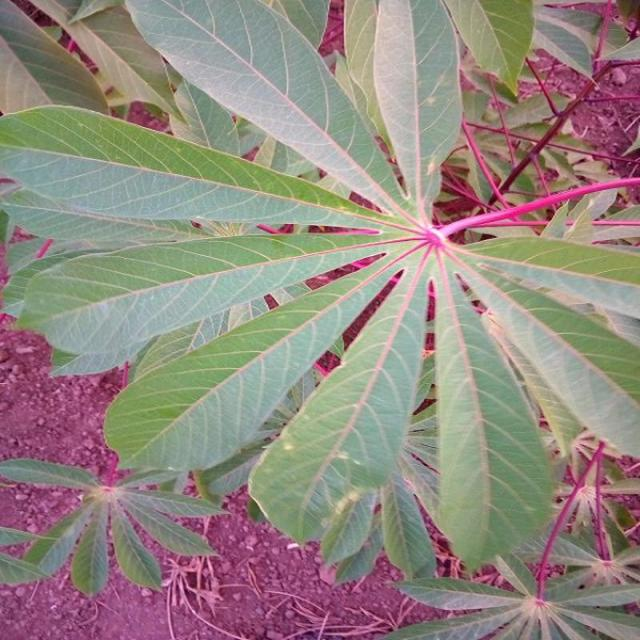cassava leaf: (1, 0, 638, 592), (432, 255, 554, 572)
